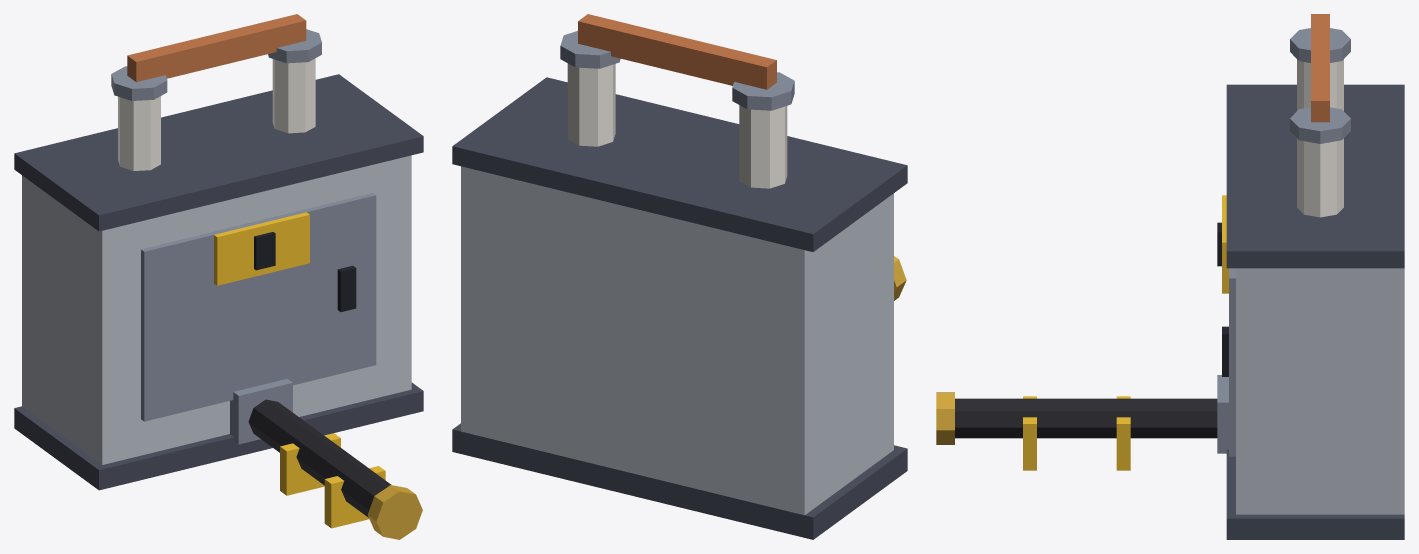
The model's file is power-outlet.glb.
3 renders of one model, left to right at view 1: azimuth 30°, elevation 25°; view 2: azimuth 150°, elevation 25°; view 3: azimuth 270°, elevation 25°, orthographic. The views are drawn at different scales.
Visible parts, largest first — view 1: power-outlet; view 2: power-outlet; view 3: power-outlet.
Boxes of the visible parts, x1,y1,x2,y2 form: power-outlet: (14,14,423,539); power-outlet: (452,14,907,539); power-outlet: (936,14,1404,539).
Size of the model in its own units: 0.84 by 0.94 by 1.
Materials: 1 (1 with a texture image).
